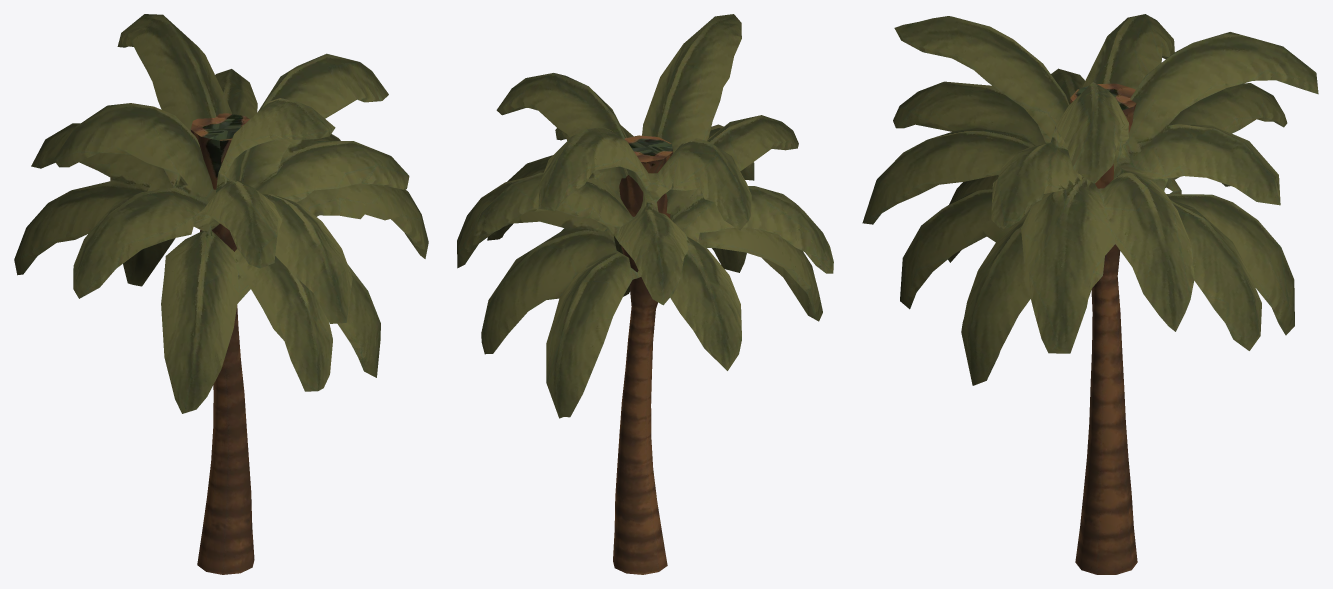
The model's file is palm_c.glb.
3 views of the same model, side by side, from view 1: azimuth 30°, elevation 25°; view 2: azimuth 150°, elevation 25°; view 3: azimuth 270°, elevation 25° (orthographic). The views are drawn at different scales.
Parts seen in each view (by area): view 1: body; view 2: body; view 3: body.
Part boxes in pixels (bbox=[...]): body: bbox=[14, 14, 428, 574]; body: bbox=[457, 14, 833, 574]; body: bbox=[862, 14, 1318, 574].
Bounding box in the file's own units: 3.31 × 4.56 × 3.46.
2 materials, 2 textured.
